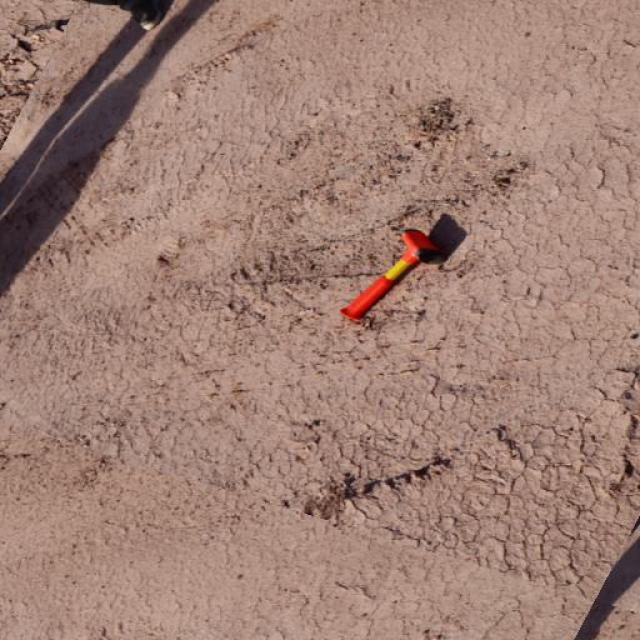mallet: (338, 225, 448, 322)
